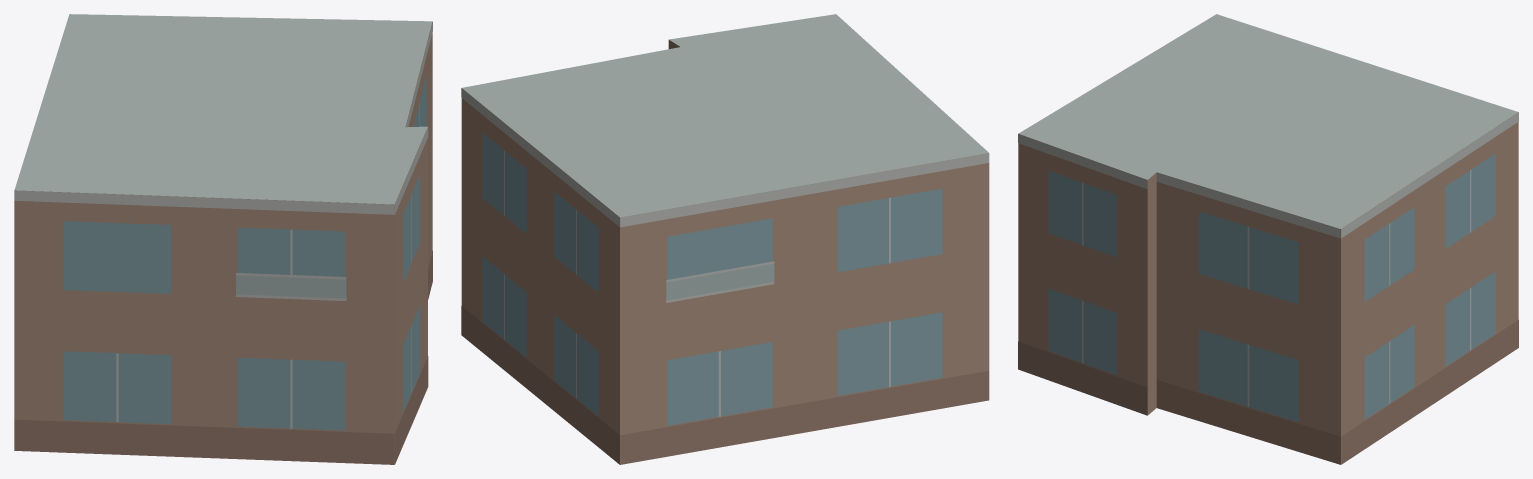
File: survey-upis-33040637.glb
3 views of the same model, side by side, from view 1: azimuth 30°, elevation 25°; view 2: azimuth 150°, elevation 25°; view 3: azimuth 270°, elevation 25° (orthographic). The views are drawn at different scales.
Visible parts, largest first — view 1: survey-upis-33040637.tmp; view 2: survey-upis-33040637.tmp; view 3: survey-upis-33040637.tmp.
Part boxes in pixels (x1,y1,x2,y2): survey-upis-33040637.tmp: (14,14,432,464); survey-upis-33040637.tmp: (461,14,989,464); survey-upis-33040637.tmp: (1018,14,1518,464).
Size of the model in its own units: 11.95 by 6.1 by 11.75.
